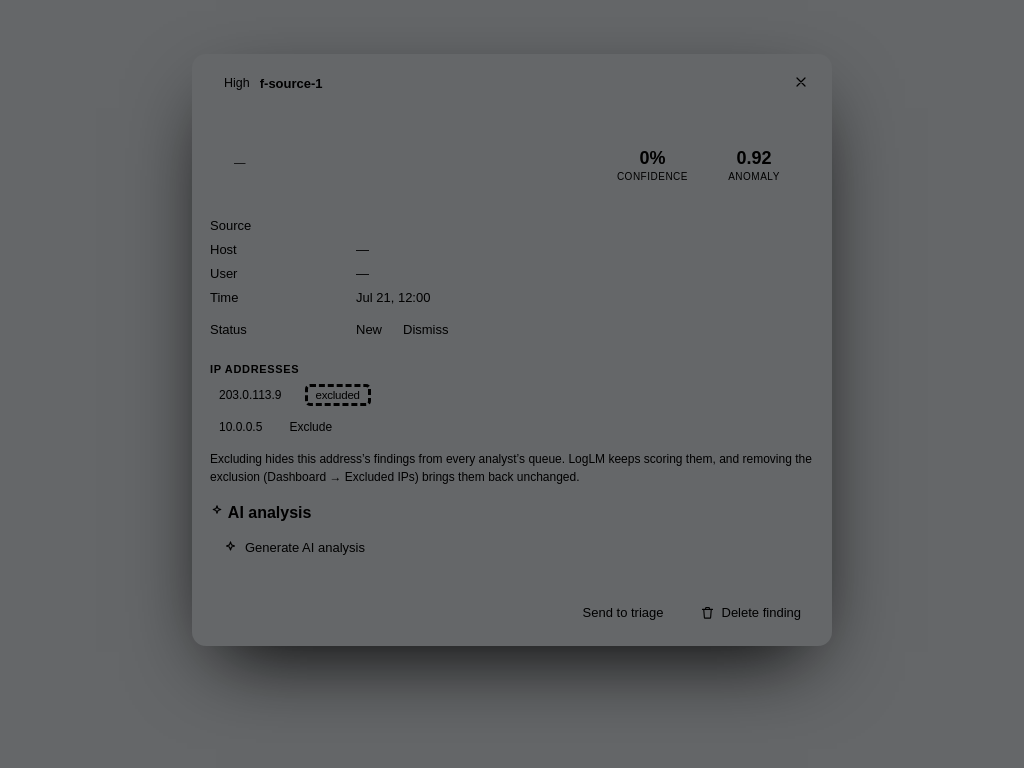
Scenario: FindingPopup IP exclusions › marks excluded addresses and excludes another in place with a reason
Expected: the text "excluded" is shown, [304, 384, 371, 406]
Click the button "Exclude".
click(311, 427)  # box [279, 414, 342, 440]
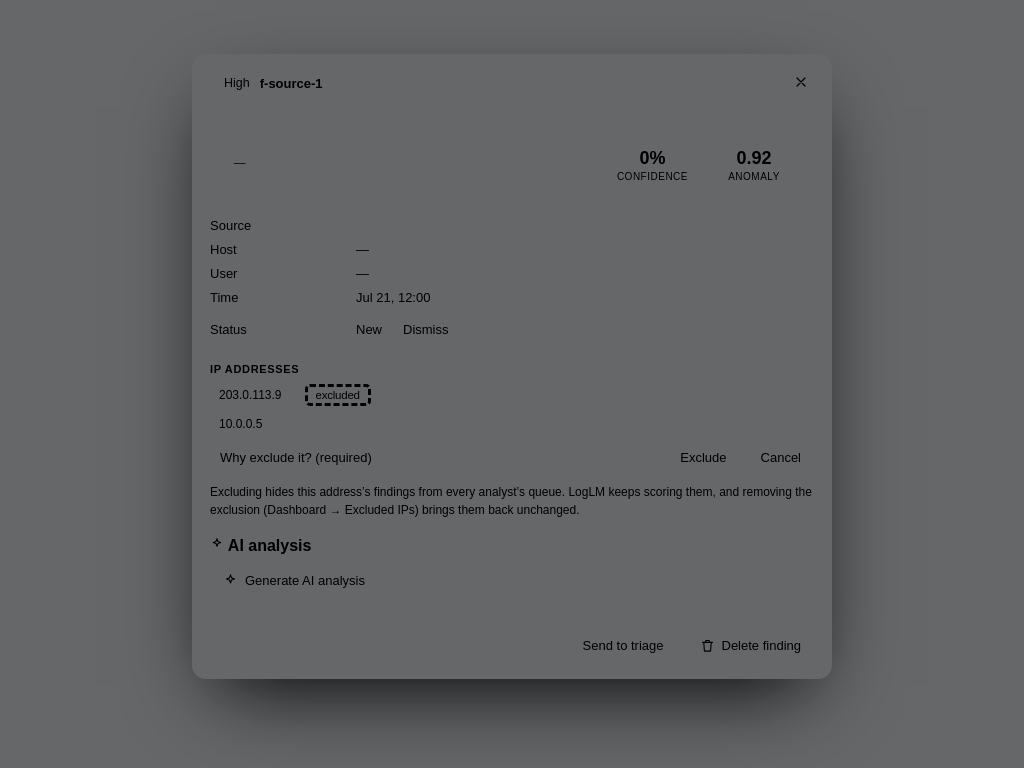
Expected: the button "Exclude" is disabled, [667, 442, 740, 473]
Type "internal scanner" into the field named "Reason for excluding 10.0.0.5".
click(435, 457); type("internal scanner")  # box [210, 442, 659, 473]
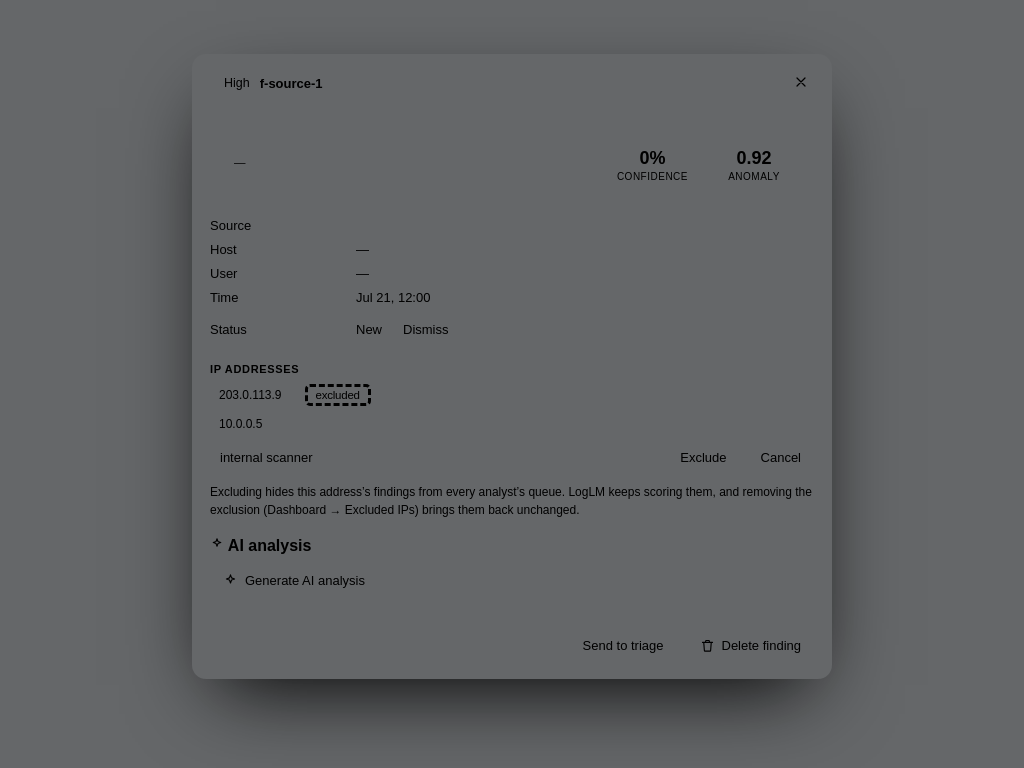
Click the button "Exclude".
click(703, 457)  # box [667, 442, 740, 473]
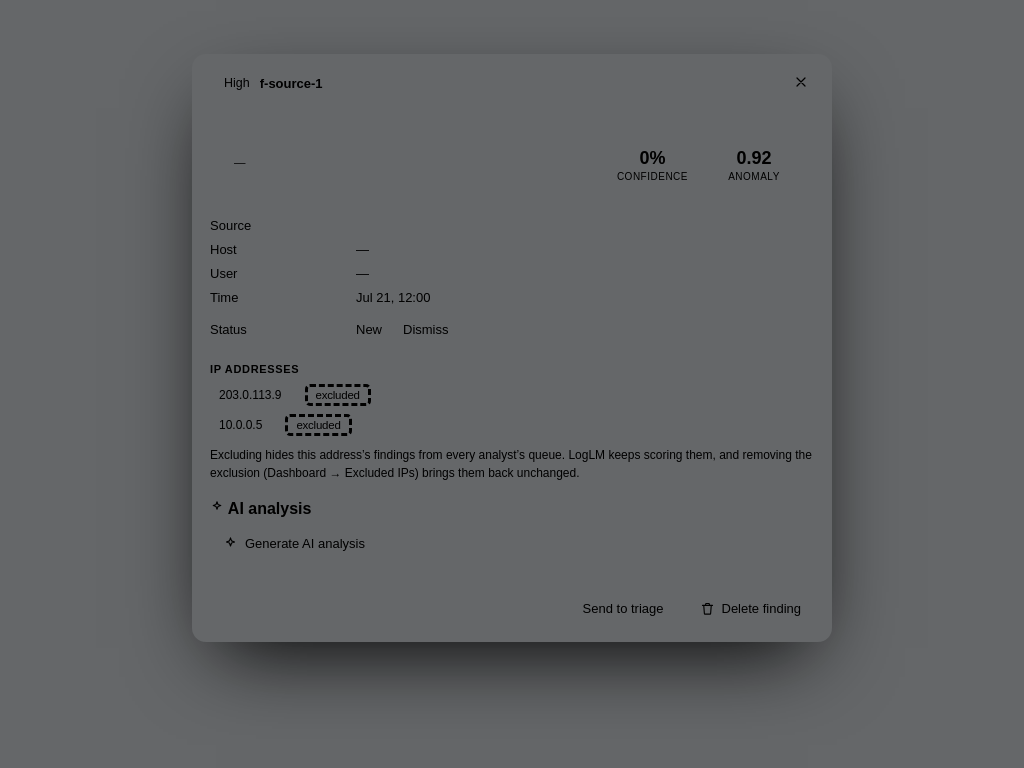
Expected: the text "excluded" next to "10.0.0.5" is shown, [296, 419, 341, 431]
